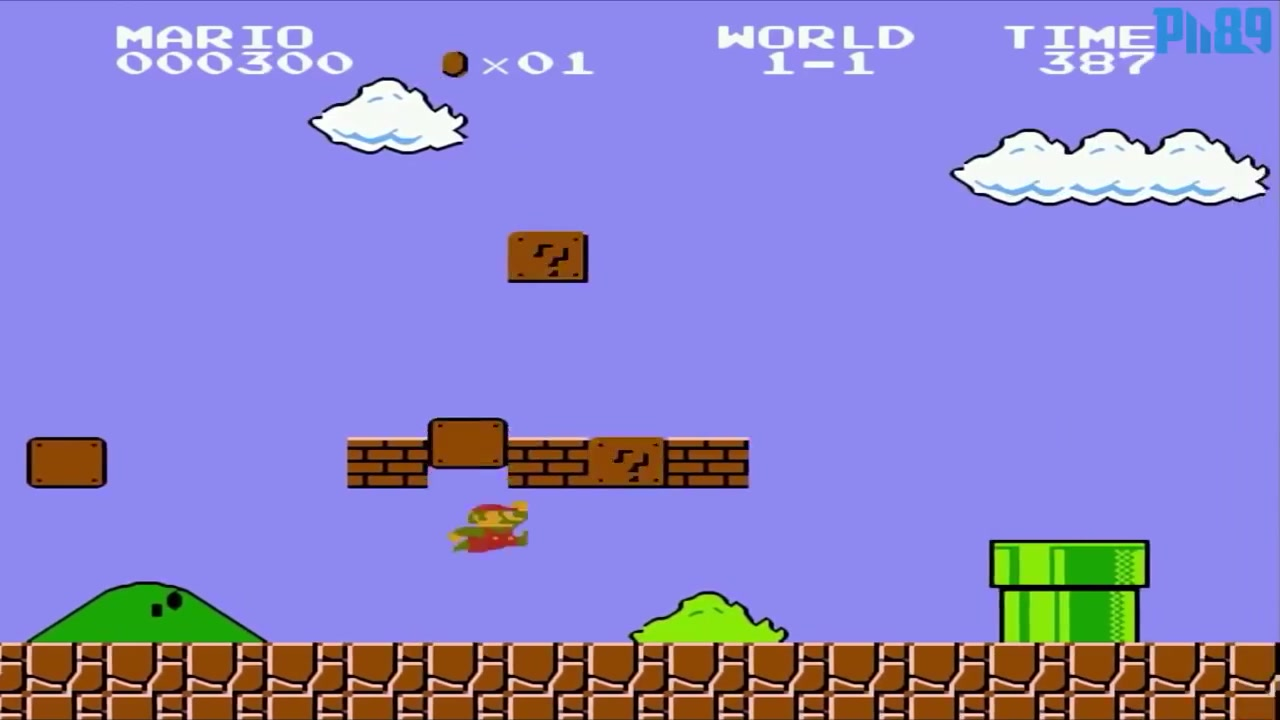mario: (442, 496, 536, 560)
